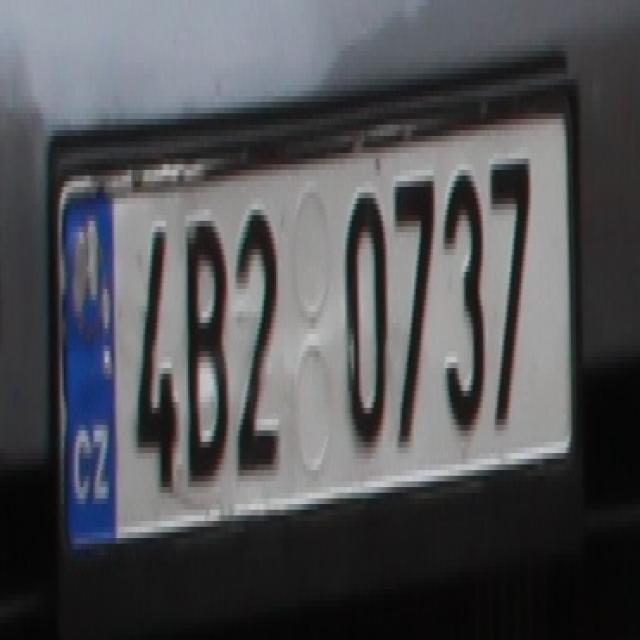0: (342, 187, 388, 447)
2: (235, 204, 283, 481)
3: (445, 170, 488, 430)
4: (131, 221, 180, 504)
7: (490, 158, 530, 442), (392, 176, 434, 442)
B: (183, 210, 228, 492)
